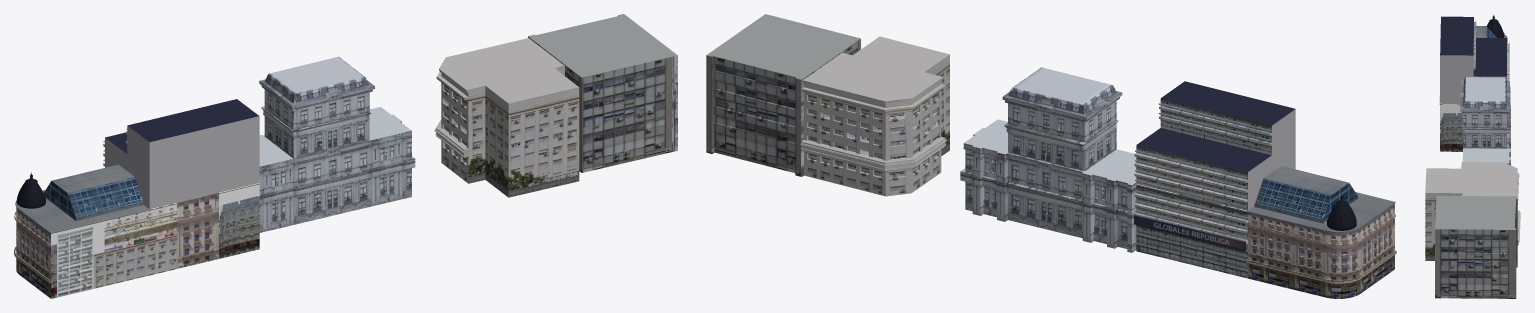
File: building2.glb
3 views of the same model, side by side, from view 1: azimuth 30°, elevation 25°; view 2: azimuth 150°, elevation 25°; view 3: azimuth 270°, elevation 25° (orthographic). The views are drawn at different scales.
Parts seen in each view (by area): view 1: building3, buildings4, building33, building34; view 2: building3, buildings4, building33, building34; view 3: building34, building3, buildings4, building33.
Part boxes in pixels (bbox=[...]): building3: bbox=[14, 99, 260, 298]; buildings4: bbox=[259, 56, 415, 232]; building33: bbox=[434, 38, 579, 197]; building34: bbox=[528, 14, 677, 172]; building3: bbox=[1134, 81, 1396, 298]; buildings4: bbox=[960, 67, 1136, 252]; building33: bbox=[800, 36, 949, 196]; building34: bbox=[706, 14, 860, 176]; building34: bbox=[1435, 195, 1517, 298]; building3: bbox=[1439, 15, 1510, 151]; buildings4: bbox=[1460, 77, 1510, 165]; building33: bbox=[1425, 162, 1520, 260].
Bounding box in the file's own units: 155 × 31.46 × 28.27.
3 materials, 3 textured.
